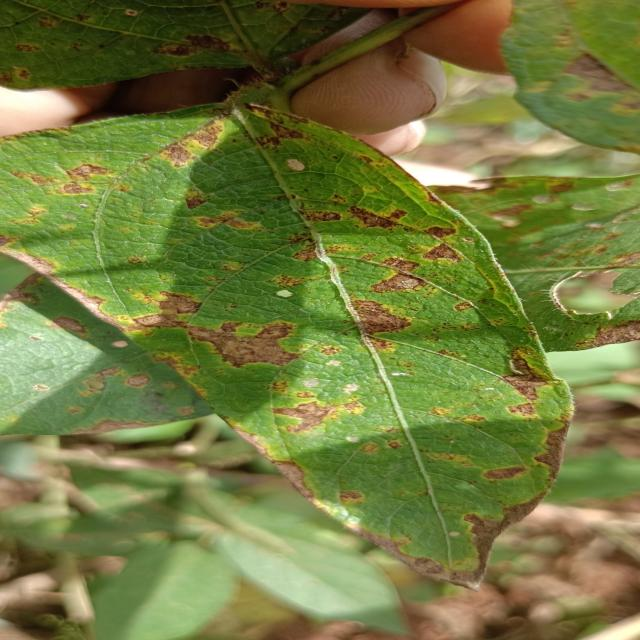Black gram_leaf spot: (0, 102, 582, 593), (391, 165, 640, 349), (1, 0, 353, 102), (481, 0, 640, 150)
